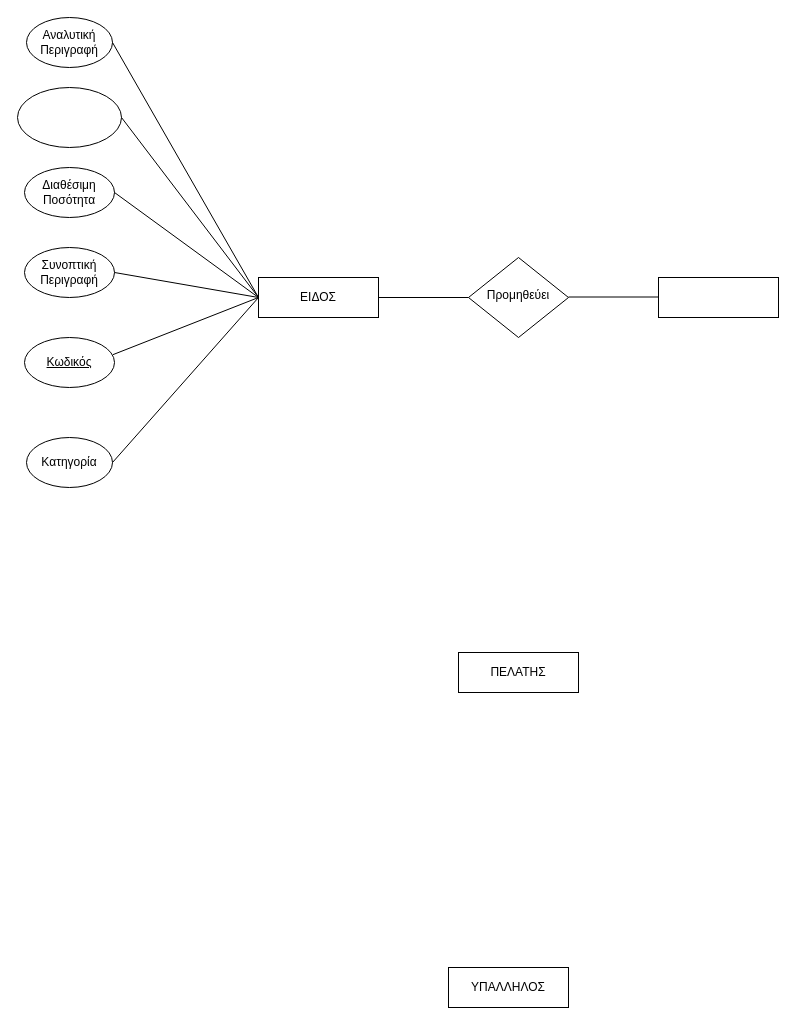
This 796x1025 diagram has some shape labels left out. Each missing label, with the centre of its shape:
ΠΡΟΜΗΘΕΥΤΗΣ: the point at 718,297
Τρέχουσα Τιμή Πώλησης: the point at 69,117
